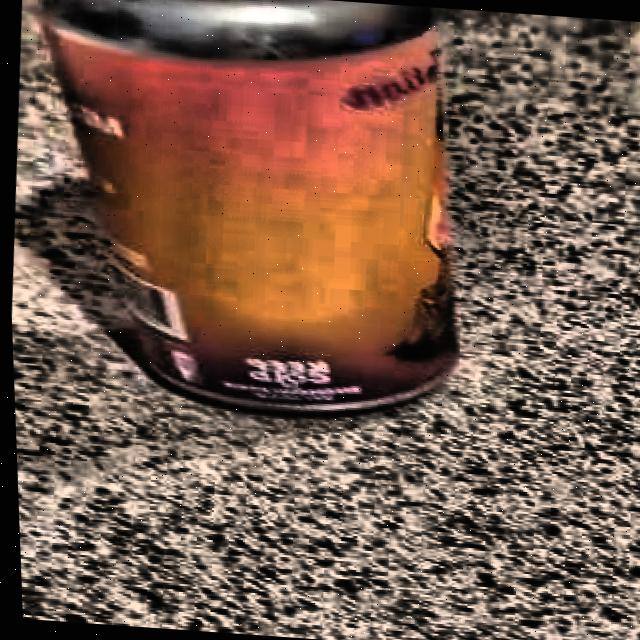metal: (0, 0, 499, 451)
